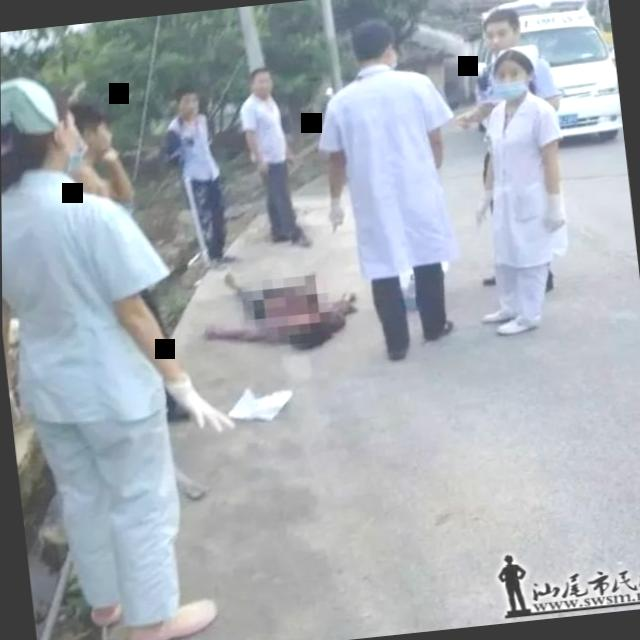Fall-Detected: (186, 242, 370, 362)
